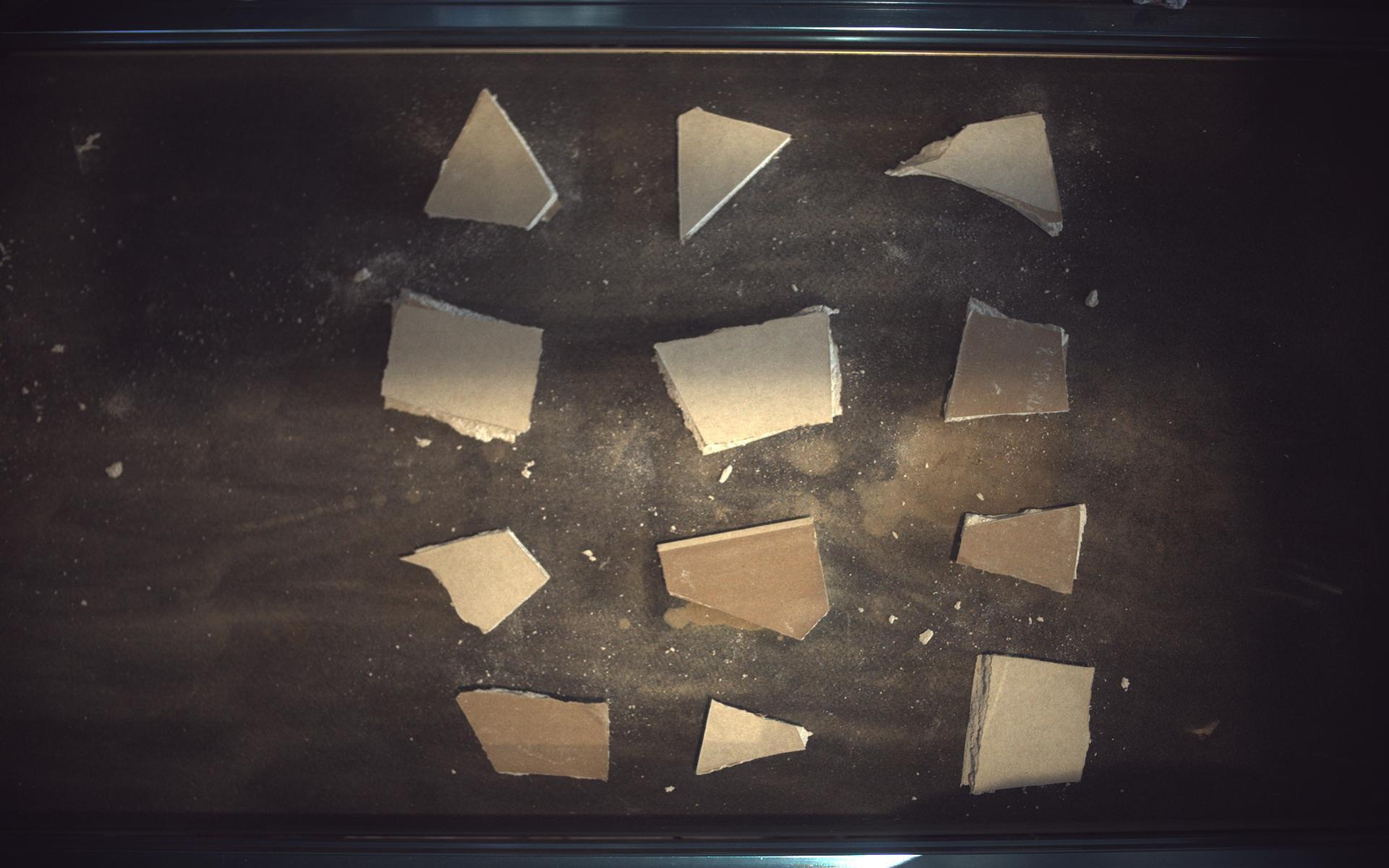gypsum_board: (655, 305, 843, 454), (381, 289, 542, 444), (888, 111, 1066, 236), (658, 517, 831, 641), (424, 88, 560, 229), (963, 655, 1097, 796), (946, 297, 1071, 422), (403, 529, 551, 634), (679, 106, 791, 242), (456, 690, 610, 782), (959, 505, 1089, 595), (697, 701, 813, 776)
